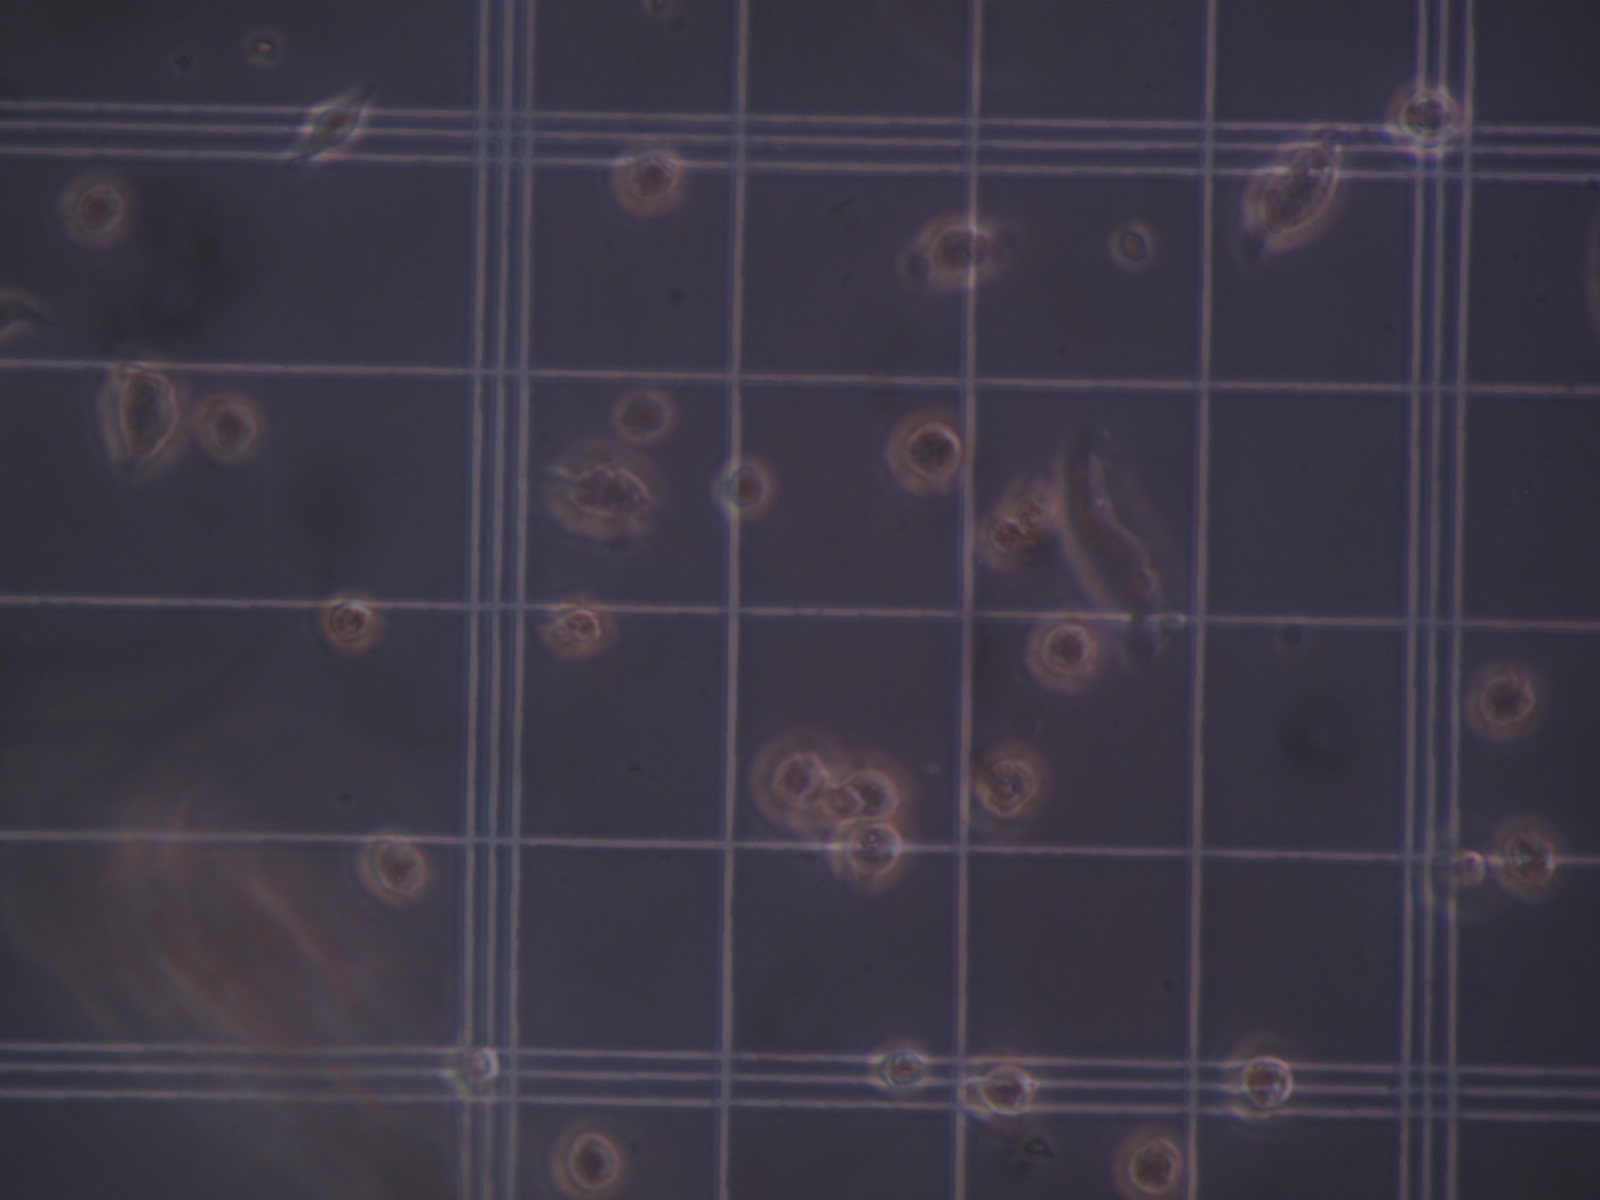hemo: (546, 442, 670, 538), (1243, 142, 1351, 252), (751, 727, 852, 824), (98, 363, 185, 474), (280, 84, 375, 164), (882, 405, 964, 495), (911, 213, 1004, 291), (961, 1045, 1041, 1132), (1112, 1123, 1199, 1197), (57, 168, 137, 246), (1417, 826, 1487, 916), (1226, 1032, 1293, 1124), (824, 824, 913, 892), (1386, 81, 1461, 160), (1027, 613, 1101, 693), (1490, 812, 1556, 903), (551, 1123, 626, 1200), (1466, 663, 1538, 742), (358, 829, 432, 904), (612, 142, 684, 217), (975, 742, 1046, 818), (197, 393, 265, 468), (829, 760, 912, 821), (538, 597, 617, 652), (712, 455, 779, 519), (1000, 473, 1061, 541), (970, 512, 1031, 572), (320, 589, 379, 650), (443, 1039, 500, 1100), (868, 1041, 930, 1093), (610, 391, 673, 440), (1106, 216, 1157, 271), (820, 776, 868, 828)
